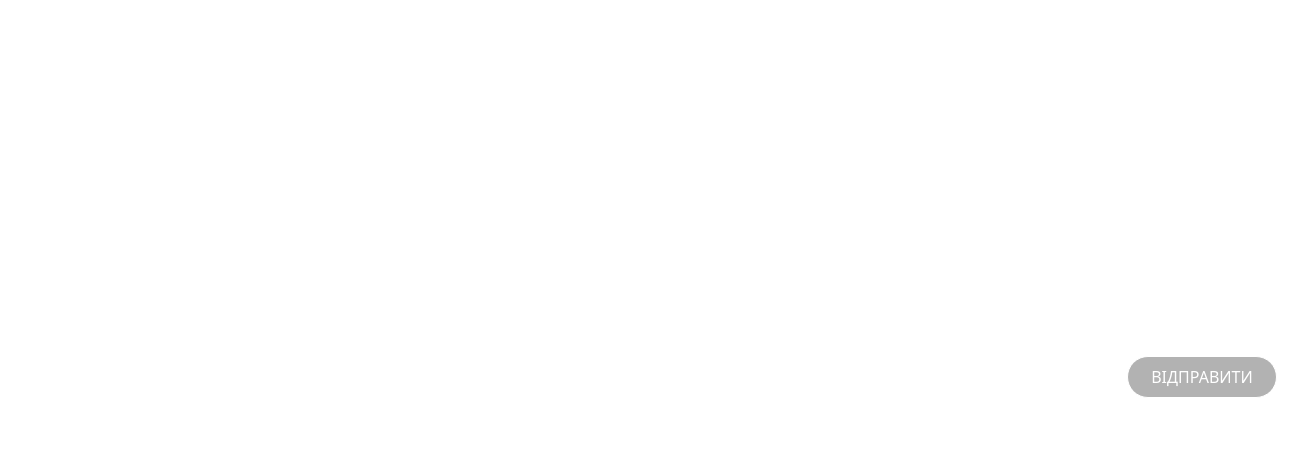
Scenario: SessionOrderForm › displays validation errors when fields are empty on submit
Click the button "Відправити": (1202, 377) [1127,356,1277,398]
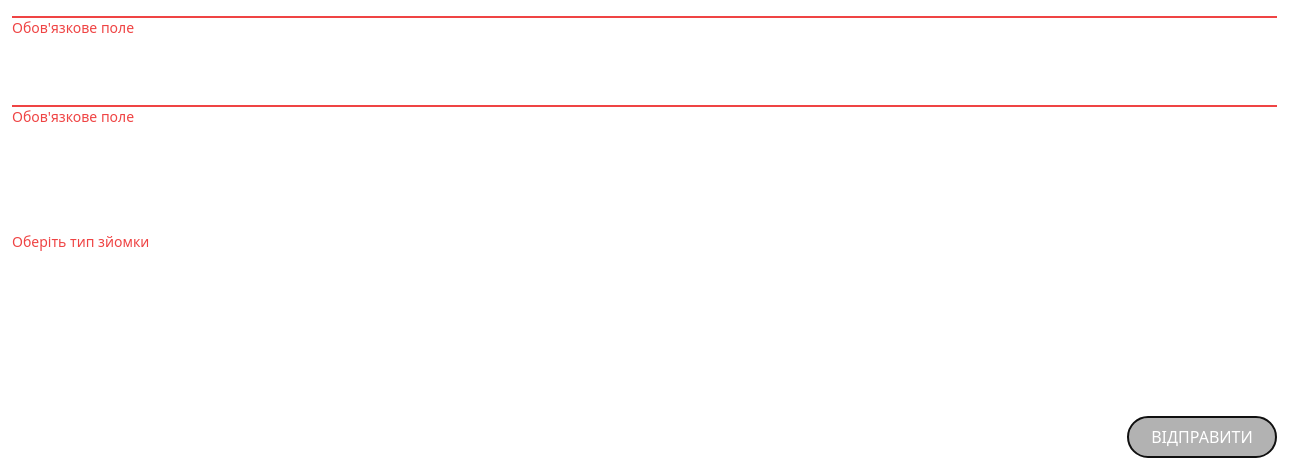
Expected: the text "Обов'язкове поле" is shown 2 times, [12,18,134,37]; [12,107,134,126]
Expected: the text "Оберіть тип зйомки" is shown, [12,232,149,251]
